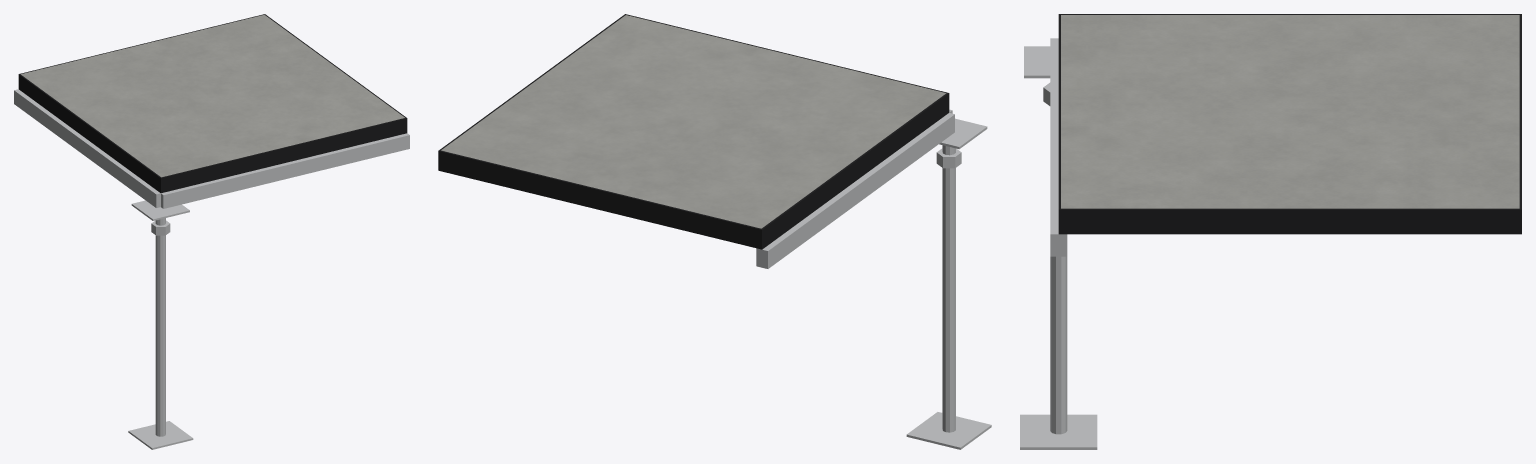
Rendered from Tile_RaisedSolid_600.glb.
3 views of the same model, side by side, from view 1: azimuth 30°, elevation 25°; view 2: azimuth 150°, elevation 25°; view 3: azimuth 270°, elevation 25° (orthographic). The views are drawn at different scales.
Visible parts, largest first — view 1: Top, Panel, Stringer_X, Stringer_Y, Pedestal_Stem, Pedestal_Base, Pedestal_Head; view 2: Top, Panel, Stringer_Y, Pedestal_Stem, Pedestal_Base, Pedestal_Head; view 3: Top, Panel, Pedestal_Stem, Pedestal_Base, Stringer_X, Pedestal_Head.
Part boxes in pixels (x1,y1,x2,y2): Top: (21, 14, 404, 177); Panel: (18, 14, 407, 193); Stringer_X: (161, 133, 409, 208); Stringer_Y: (14, 89, 160, 207); Pedestal_Stem: (155, 218, 165, 436); Pedestal_Base: (128, 421, 193, 449); Pedestal_Head: (131, 200, 189, 220); Top: (441, 15, 946, 228); Panel: (438, 14, 949, 249); Stringer_Y: (756, 113, 954, 268); Pedestal_Stem: (942, 145, 955, 432); Pedestal_Base: (906, 412, 991, 449); Pedestal_Head: (939, 118, 987, 149); Top: (1061, 15, 1519, 208); Panel: (1058, 14, 1521, 234); Pedestal_Stem: (1050, 256, 1067, 434); Pedestal_Base: (1020, 414, 1097, 449); Stringer_X: (1050, 38, 1067, 256); Pedestal_Head: (1024, 46, 1050, 78).
Bounding box in the file's own units: 0.65 × 0.6002 × 0.65.
3 materials, 1 textured.
